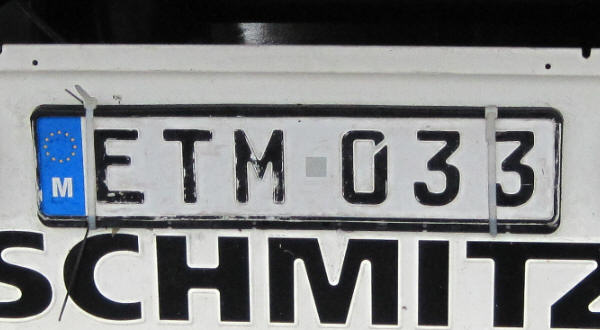license_plate: (33, 104, 562, 229)
